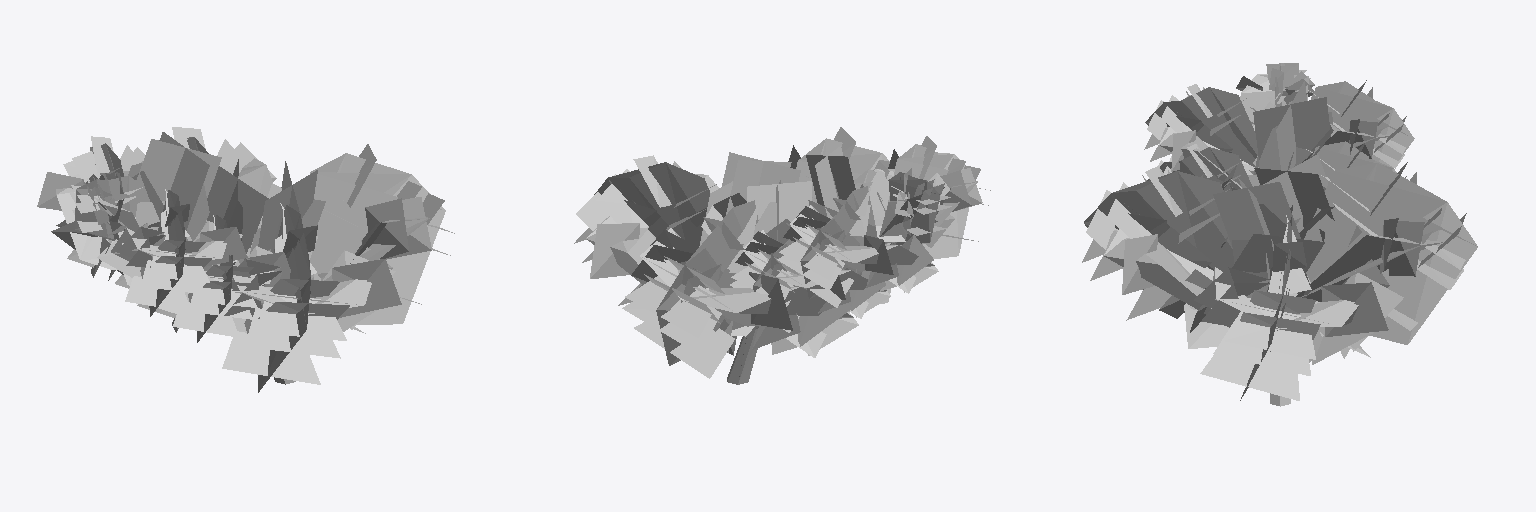
The model's file is Sharp_ScrubPine09.obj.
3 views of the same model, side by side, from view 1: azimuth 30°, elevation 25°; view 2: azimuth 150°, elevation 25°; view 3: azimuth 270°, elevation 25° (orthographic).
Parts seen in each view (by area): view 1: Bfol#8_Mesh.028, Afol#5_Mesh.015, Bfol#3_Mesh.023, Afol#8_Mesh.018, Afol#10_Mesh.020, Bfol#2_Mesh.022, Afol#9_Mesh.019, Bfol#4_Mesh.024, Afol#2_Mesh.012, Bfol#9_Mesh.029, Afol_Mesh.011, Cfol_Mesh.031 (+13 smaller); view 2: Cfol#8_Mesh.038, Cfol_Mesh.031, Cfol#3_Mesh.033, Afol#8_Mesh.018, Afol#4_Mesh.014, Cfol#7_Mesh.037, Afol#2_Mesh.012, Afol_Mesh.011, Afol#5_Mesh.015, Cfol#10_Mesh.040, Cfol#2_Mesh.032, Cfol#9_Mesh.039 (+13 smaller); view 3: Afol#5_Mesh.015, Bfol_Mesh.021, Cfol#10_Mesh.040, Afol#8_Mesh.018, Bfol#8_Mesh.028, Afol#9_Mesh.019, Afol#6_Mesh.016, Cfol#2_Mesh.032, Cfol#7_Mesh.037, Cfol#8_Mesh.038, Bfol#3_Mesh.023, Bfol#2_Mesh.022 (+15 smaller).
Part boxes in pixels (left/top/right/bottom): Bfol#8_Mesh.028: left=222, top=259, right=384, bottom=384; Afol#5_Mesh.015: left=75, top=163, right=454, bottom=324; Bfol#3_Mesh.023: left=116, top=205, right=317, bottom=337; Afol#8_Mesh.018: left=133, top=132, right=317, bottom=259; Afol#10_Mesh.020: left=76, top=166, right=441, bottom=280; Bfol#2_Mesh.022: left=97, top=192, right=355, bottom=392; Afol#9_Mesh.019: left=89, top=132, right=325, bottom=259; Bfol#4_Mesh.024: left=113, top=227, right=282, bottom=344; Afol#2_Mesh.012: left=69, top=145, right=446, bottom=278; Bfol#9_Mesh.029: left=150, top=193, right=401, bottom=333; Afol_Mesh.011: left=72, top=158, right=444, bottom=309; Cfol_Mesh.031: left=57, top=136, right=264, bottom=285; Cfol#8_Mesh.038: left=622, top=230, right=858, bottom=378; Cfol_Mesh.031: left=662, top=185, right=896, bottom=365; Cfol#3_Mesh.033: left=686, top=200, right=938, bottom=331; Afol#8_Mesh.018: left=587, top=153, right=874, bottom=283; Afol#4_Mesh.014: left=576, top=155, right=939, bottom=354; Cfol#7_Mesh.037: left=627, top=206, right=934, bottom=355; Afol#2_Mesh.012: left=576, top=156, right=951, bottom=262; Afol_Mesh.011: left=606, top=162, right=948, bottom=272; Afol#5_Mesh.015: left=574, top=160, right=922, bottom=355; Cfol#10_Mesh.040: left=642, top=228, right=852, bottom=365; Cfol#2_Mesh.032: left=664, top=201, right=937, bottom=311; Cfol#9_Mesh.039: left=631, top=226, right=849, bottom=364; Afol#5_Mesh.015: left=1190, top=88, right=1370, bottom=400; Bfol_Mesh.021: left=1084, top=84, right=1257, bottom=308; Cfol#10_Mesh.040: left=1304, top=87, right=1477, bottom=280; Afol#8_Mesh.018: left=1213, top=81, right=1403, bottom=364; Bfol#8_Mesh.028: left=1082, top=170, right=1229, bottom=348; Afol#9_Mesh.019: left=1214, top=77, right=1361, bottom=293; Afol#6_Mesh.016: left=1196, top=99, right=1388, bottom=362; Cfol#2_Mesh.032: left=1297, top=87, right=1476, bottom=344; Cfol#7_Mesh.037: left=1289, top=171, right=1477, bottom=344; Cfol#8_Mesh.038: left=1301, top=172, right=1466, bottom=330; Bfol#3_Mesh.023: left=1114, top=87, right=1259, bottom=271; Bfol#2_Mesh.022: left=1113, top=95, right=1254, bottom=295.
Size of the model in its own units: 17.67 by 11.9 by 16.34.